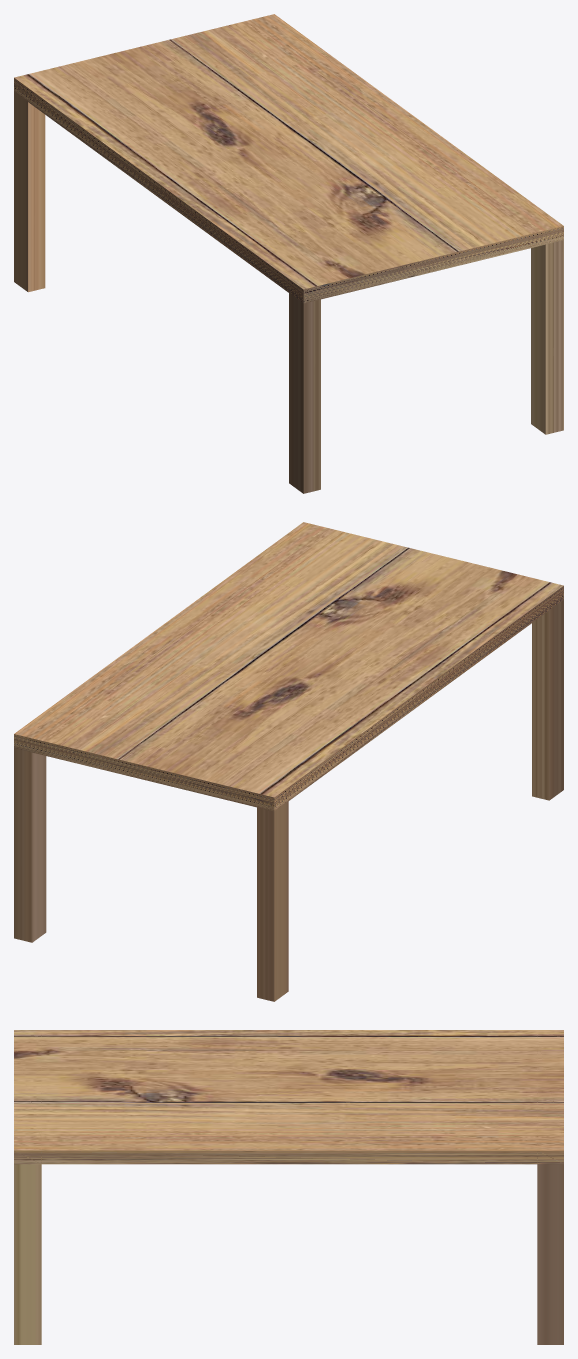
Rendered from Wooden Table.fbx.
3 renders of one model, top to bottom at view 1: azimuth 30°, elevation 25°; view 2: azimuth 150°, elevation 25°; view 3: azimuth 270°, elevation 25°, orthographic. The views are drawn at different scales.
Visible parts, largest first — view 1: Cube; view 2: Cube; view 3: Cube.
Part boxes in pixels (x1,y1,x2,y2): Cube: (14, 14, 563, 493); Cube: (14, 522, 563, 1001); Cube: (14, 1030, 563, 1344).
Size of the model in its own units: 462 by 346 by 889.
1 material, 1 textured.
